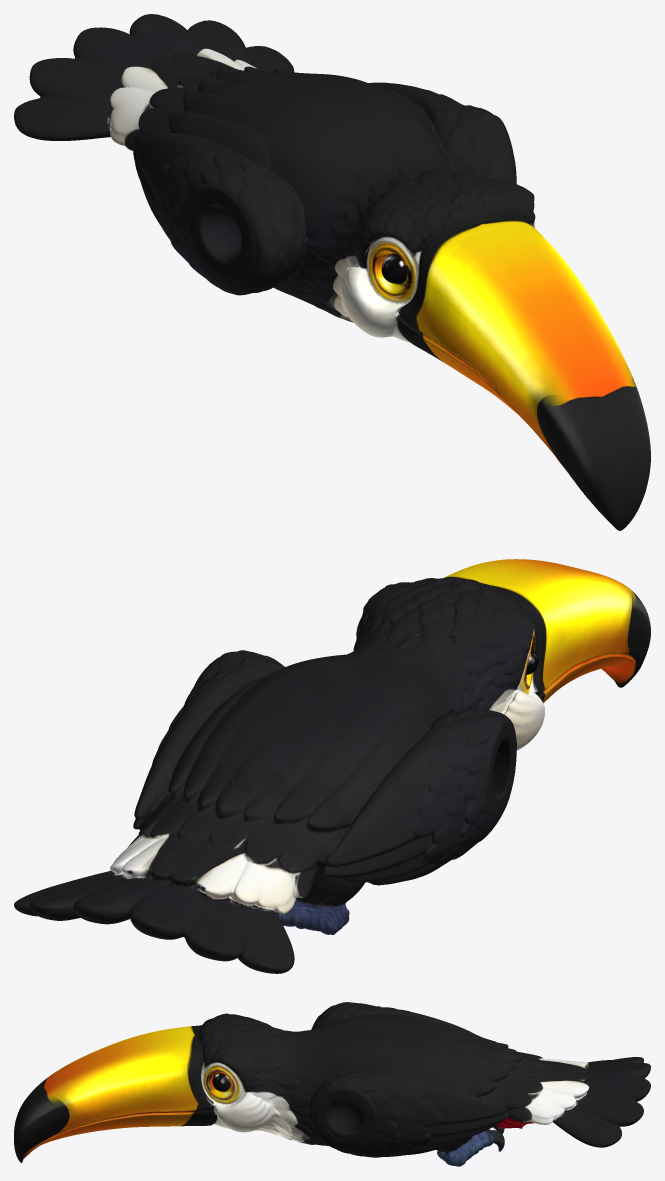
The model's file is Meshy_AI_Sunburst_Toucan_0604052327_texture.fbx.
The picture shows the model from 3 angles, top to bottom: view 1: azimuth 30°, elevation 25°; view 2: azimuth 150°, elevation 25°; view 3: azimuth 270°, elevation 25°; orthographic projection. The views are drawn at different scales.
Visible parts, largest first — view 1: Mesh_0; view 2: Mesh_0; view 3: Mesh_0.
Part boxes in pixels (x1,y1,x2,y2): Mesh_0: [14, 14, 650, 530]; Mesh_0: [14, 559, 650, 973]; Mesh_0: [14, 1002, 650, 1166].
Bounding box in the file's own units: 64.6 × 45.25 × 190.
Materials: 1 (1 with a texture image).
